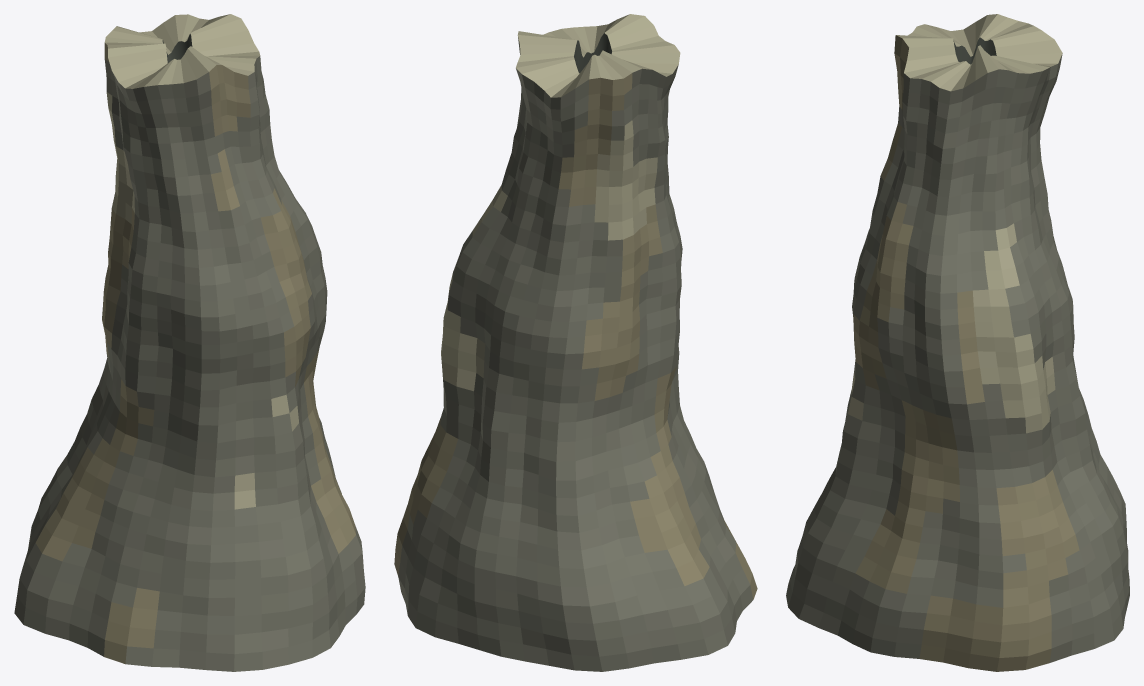
Rendered from hydrothermal-chimney.glb.
3 renders of one model, left to right at view 1: azimuth 30°, elevation 25°; view 2: azimuth 150°, elevation 25°; view 3: azimuth 270°, elevation 25°, orthographic.
Parts seen in each view (by area): view 1: continuous-sulfide-shell-and-open-conduit; view 2: continuous-sulfide-shell-and-open-conduit; view 3: continuous-sulfide-shell-and-open-conduit.
Boxes of the visible parts, bbox=[...] form: continuous-sulfide-shell-and-open-conduit: bbox=[14, 14, 365, 671]; continuous-sulfide-shell-and-open-conduit: bbox=[394, 14, 757, 671]; continuous-sulfide-shell-and-open-conduit: bbox=[786, 14, 1129, 671].
Bounding box in the file's own units: 0.5224 × 0.8699 × 0.4923.
